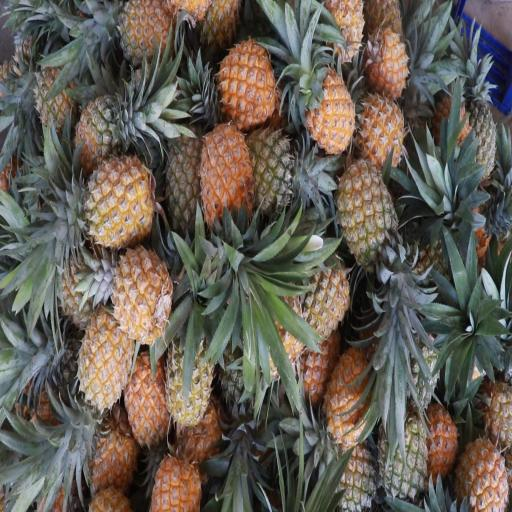------------------------------: (332, 150, 398, 280), (64, 82, 138, 175), (162, 310, 215, 434), (243, 120, 303, 216), (113, 0, 180, 67)
Pineapple - v8 v1: (64, 142, 158, 249), (190, 108, 253, 238), (106, 228, 175, 341), (74, 305, 136, 417), (318, 341, 376, 458), (290, 242, 352, 348), (294, 60, 358, 158), (216, 30, 275, 132), (352, 77, 408, 173), (121, 348, 172, 450), (456, 428, 512, 512), (144, 437, 201, 510), (361, 22, 414, 96)
